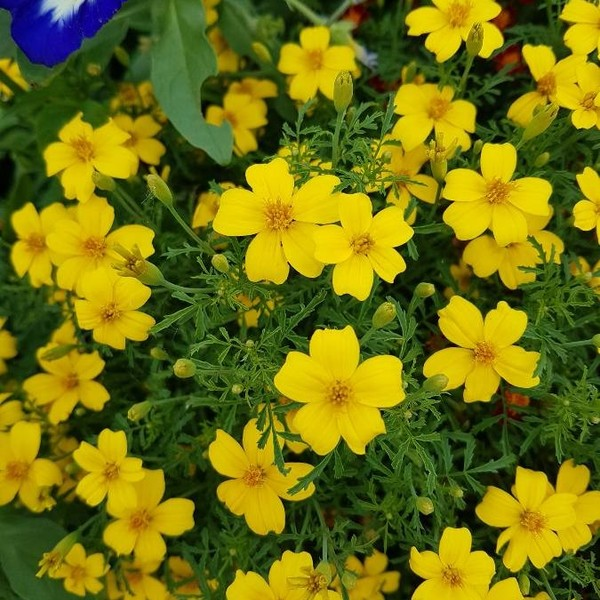obstacle: (19, 29, 573, 557)
